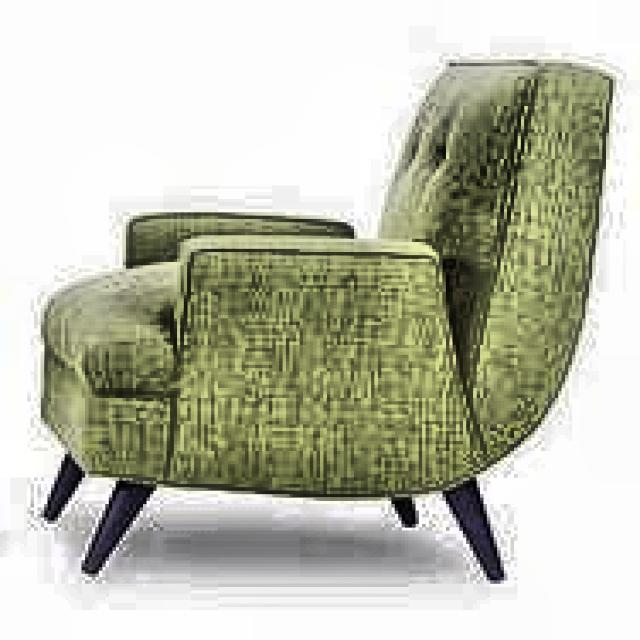sofa: (41, 63, 616, 584)
